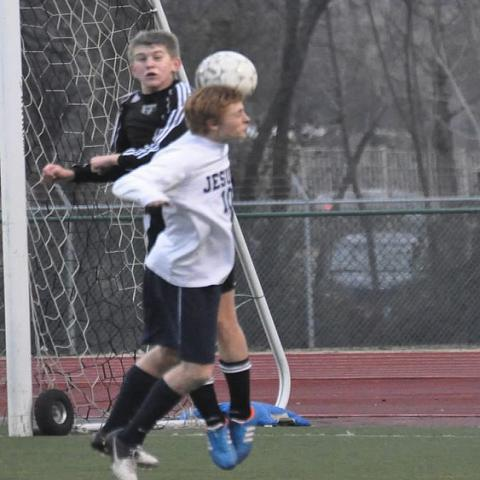car: (313, 231, 434, 319)
